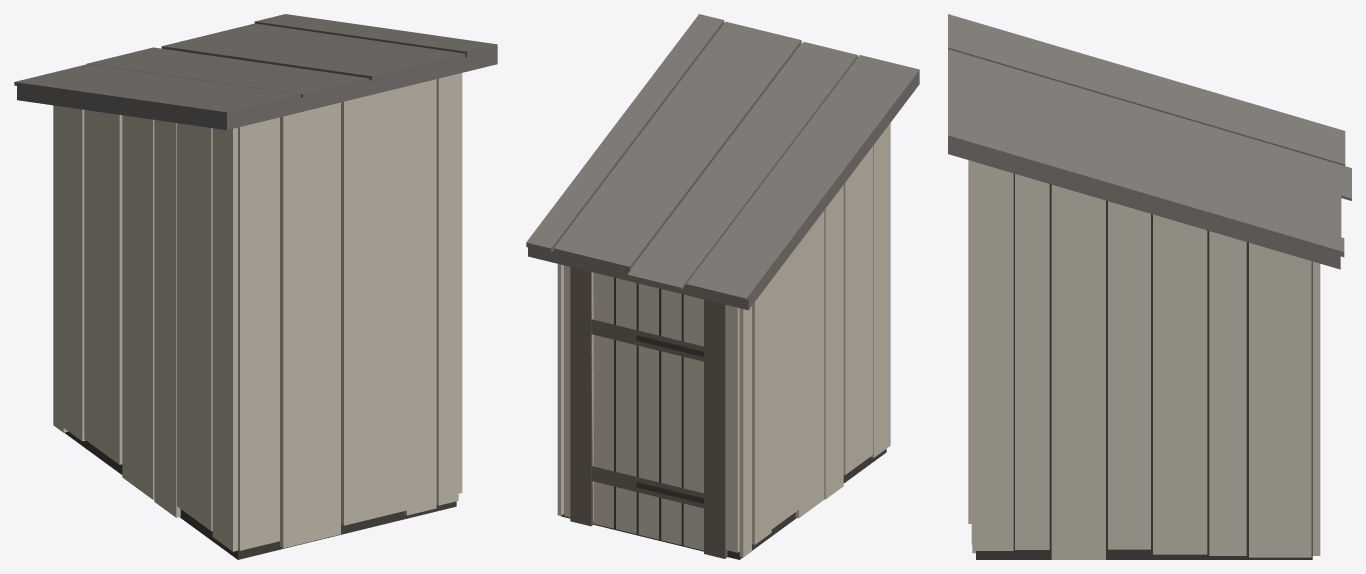
The model's file is recon_1835_blk_south_water_dearborn_a3_06__inferred_1835.glb.
3 views of the same model, side by side, from view 1: azimuth 30°, elevation 25°; view 2: azimuth 150°, elevation 25°; view 3: azimuth 270°, elevation 25° (orthographic). The views are drawn at different scales.
Visible parts, largest first — view 1: recon_1835_blk_south_water_dearborn_a3_06__inferred_1835; view 2: recon_1835_blk_south_water_dearborn_a3_06__inferred_1835; view 3: recon_1835_blk_south_water_dearborn_a3_06__inferred_1835.
Part boxes in pixels (x1=…): recon_1835_blk_south_water_dearborn_a3_06__inferred_1835: x1=14, y1=14, x2=497, y2=559; recon_1835_blk_south_water_dearborn_a3_06__inferred_1835: x1=526, y1=14, x2=919, y2=559; recon_1835_blk_south_water_dearborn_a3_06__inferred_1835: x1=948, y1=14, x2=1351, y2=559.
Bounding box in the file's own units: 1.68 × 2.78 × 2.33.
